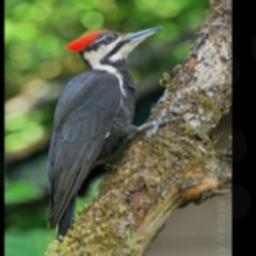Woodpecker: (35, 23, 180, 244)
